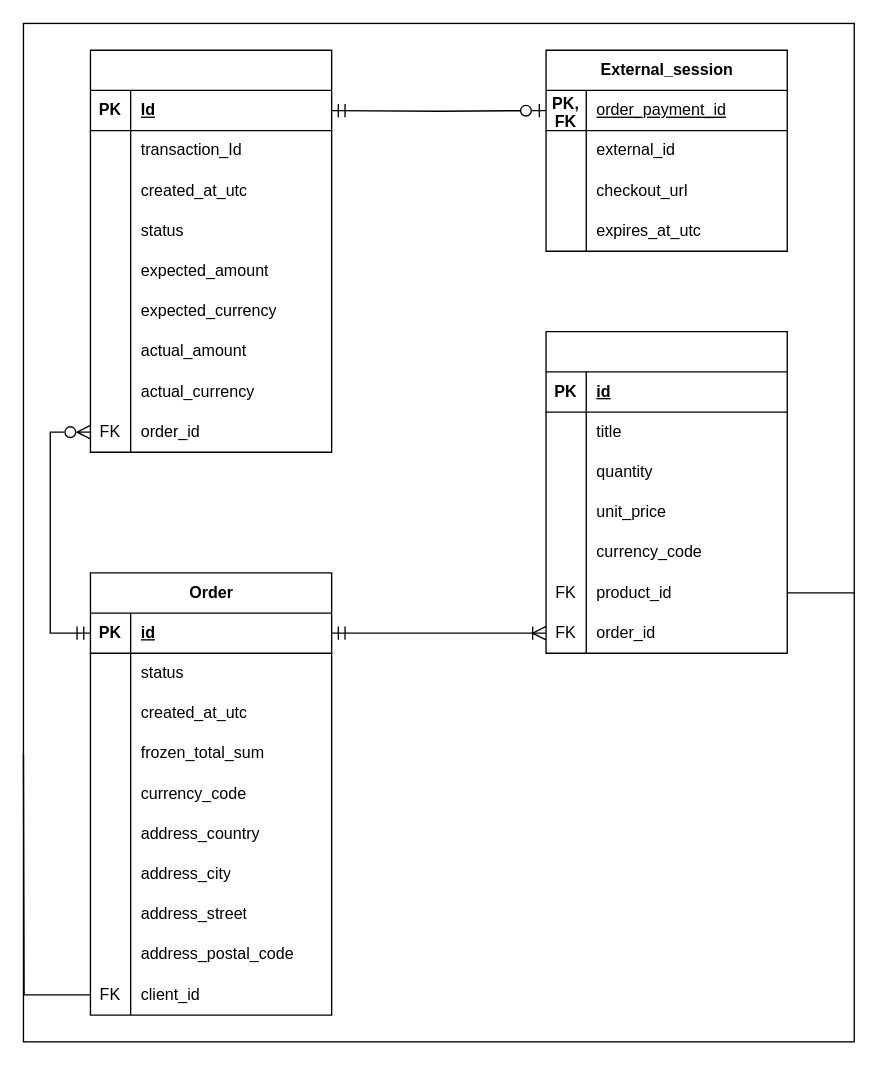
Some shapes in this 879 by 1065 pixel diagram are drawn without their labels. Each missing label, with the box of its shape:
Order_item: (545, 330, 787, 653)
Order_payment: (89, 49, 332, 452)
